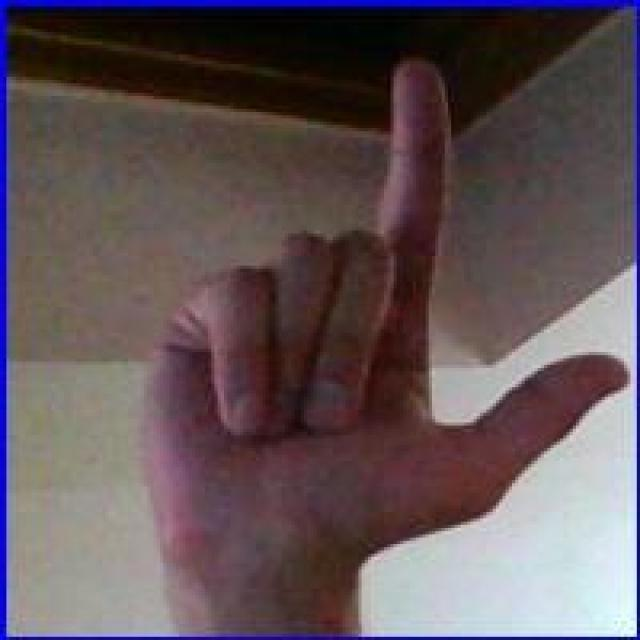L: (164, 56, 630, 590)
